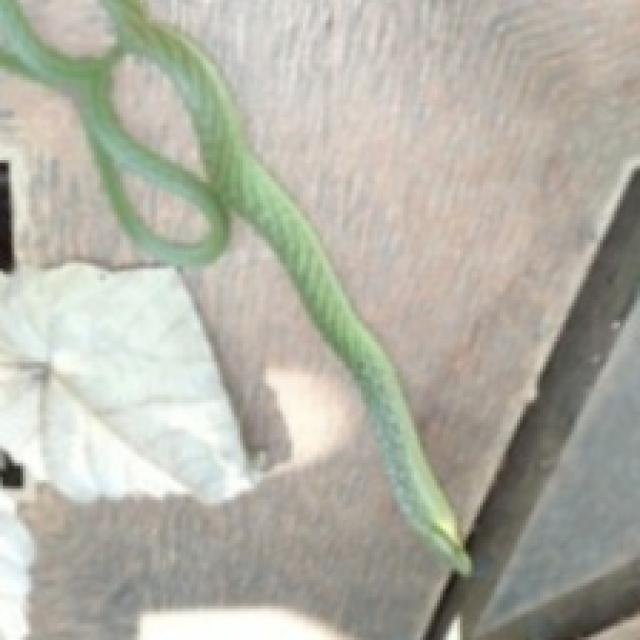red-tailed green ratsnake: (0, 0, 469, 571)
